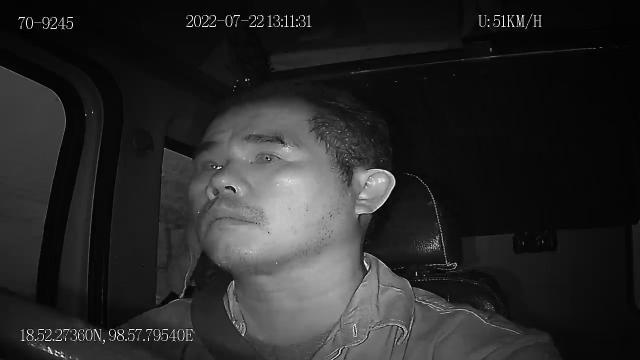SafeDriving: (243, 140, 290, 171)
Seatbelt: (188, 282, 268, 360)
